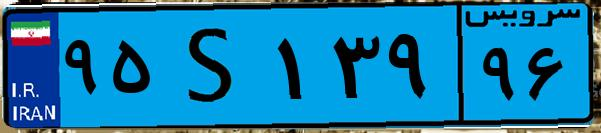1: (270, 28, 330, 110)
3: (330, 28, 385, 110)
5: (110, 28, 158, 98)
6: (525, 38, 570, 115)
9: (385, 28, 445, 110), (57, 26, 110, 100), (475, 38, 525, 113)
S: (158, 12, 270, 120)
